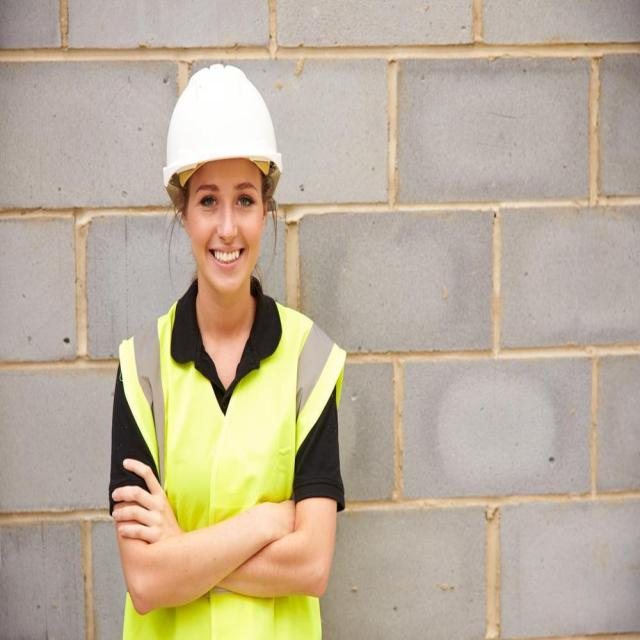helmet: (164, 64, 282, 187)
